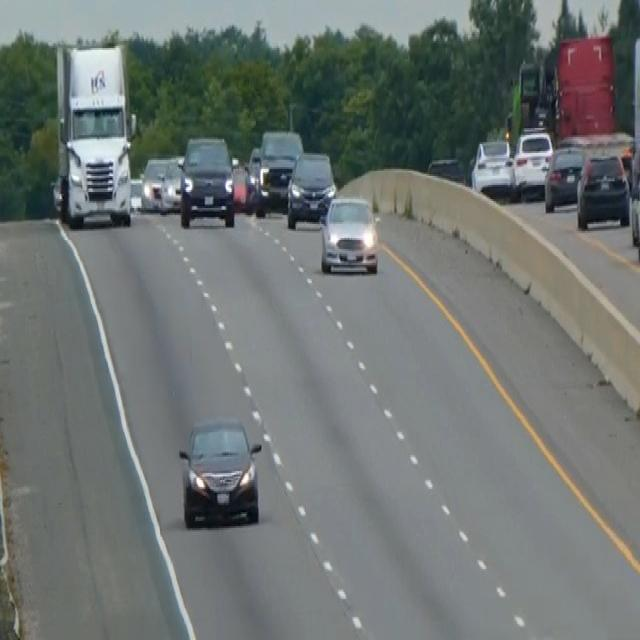car: (177, 412, 263, 528), (318, 192, 379, 276), (575, 150, 630, 230), (286, 150, 336, 228), (257, 126, 303, 210), (543, 142, 586, 212), (512, 126, 553, 198), (470, 135, 514, 197), (139, 154, 167, 212), (159, 155, 183, 213), (230, 160, 255, 213), (628, 142, 639, 252), (246, 144, 262, 192)
jeep: (177, 133, 236, 230)
lorry: (51, 39, 137, 229)
